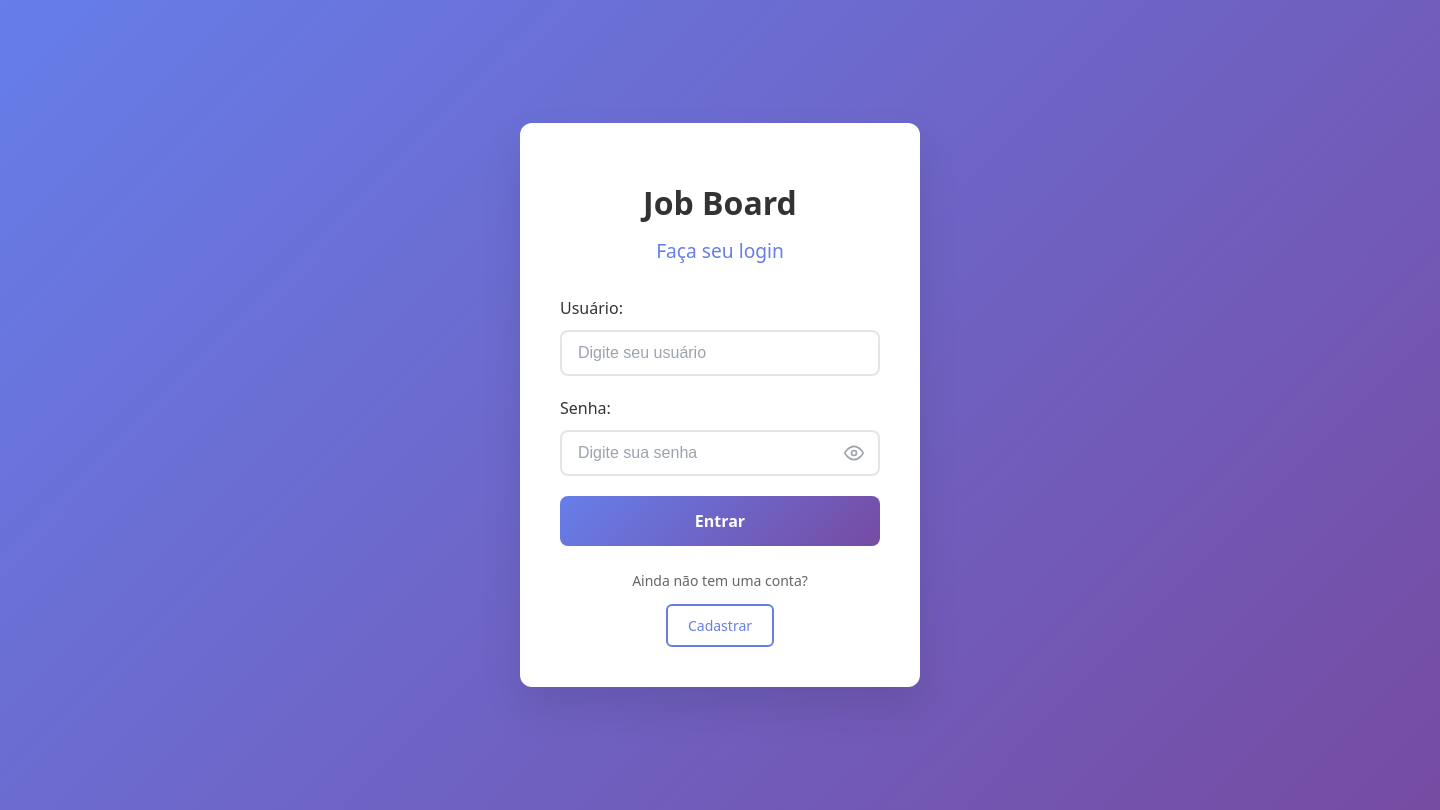
Test: Login › shows error when submitting with empty fields
The image size is (1440, 810).
What coordinates should you click on to do the following:
click the button "Entrar"
I would click on:
 (720, 520)
Its box is [560, 496, 880, 546].
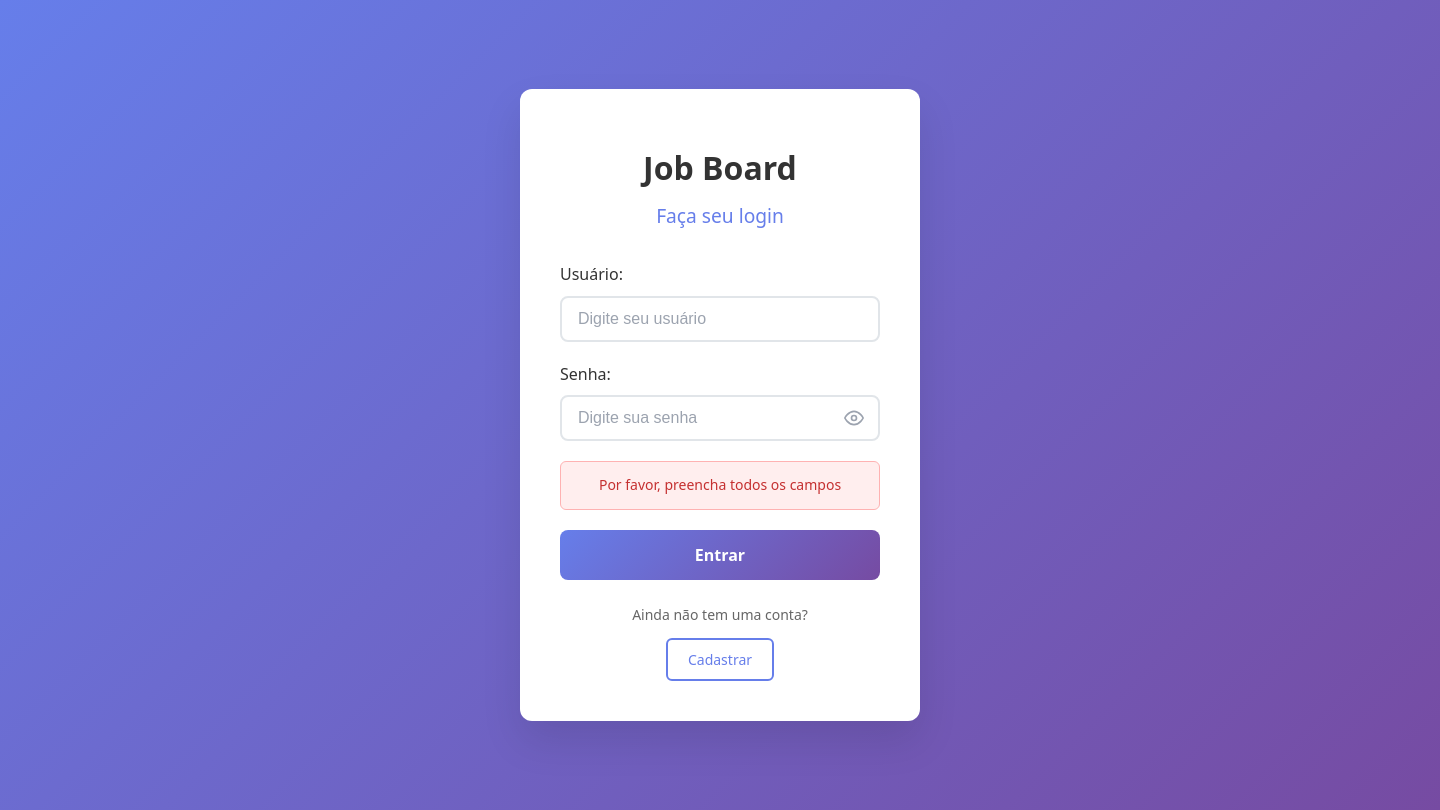
Expected: the text "Por favor, preencha todos os campos" is shown, [560, 461, 880, 510]
